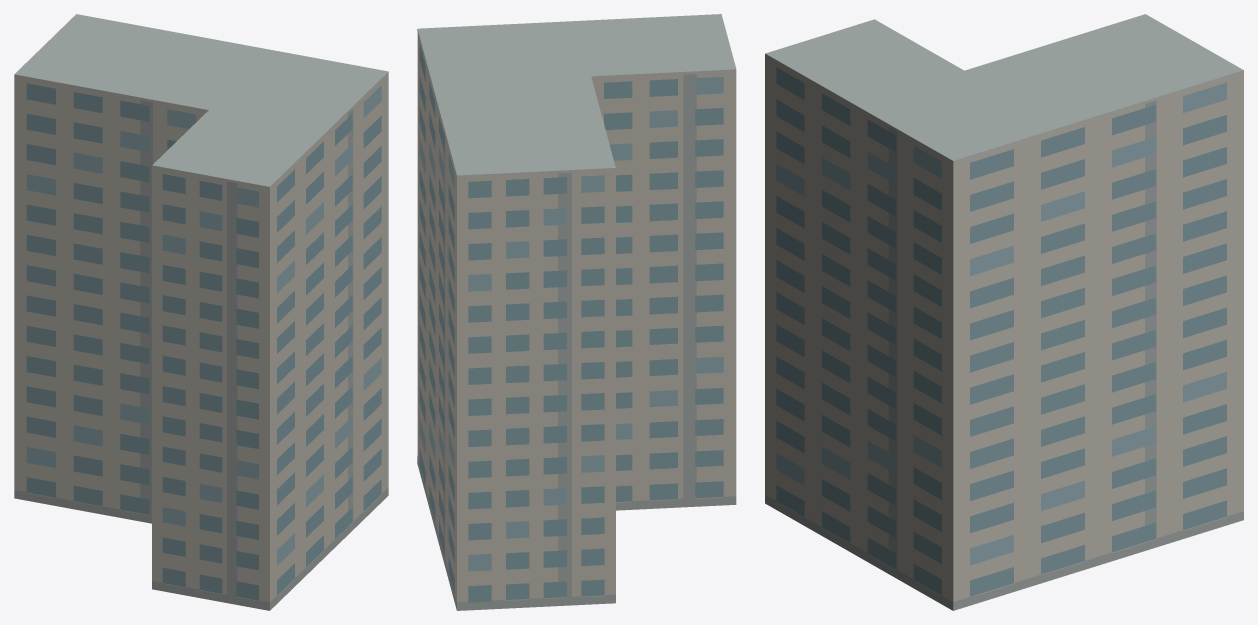
File: residential-ffc78778-fa27-49c6-a62d-be9d6b01679e.glb
3 renders of one model, left to right at view 1: azimuth 30°, elevation 25°; view 2: azimuth 150°, elevation 25°; view 3: azimuth 270°, elevation 25°, orthographic. The views are drawn at different scales.
Parts seen in each view (by area): view 1: residential-ffc78778-fa27-49c6-a62d-be9d6b01679e.tmp; view 2: residential-ffc78778-fa27-49c6-a62d-be9d6b01679e.tmp; view 3: residential-ffc78778-fa27-49c6-a62d-be9d6b01679e.tmp.
Part boxes in pixels (x1,y1,x2,y2): residential-ffc78778-fa27-49c6-a62d-be9d6b01679e.tmp: [14, 14, 388, 610]; residential-ffc78778-fa27-49c6-a62d-be9d6b01679e.tmp: [417, 14, 736, 610]; residential-ffc78778-fa27-49c6-a62d-be9d6b01679e.tmp: [765, 14, 1243, 610].
Size of the model in its own units: 28.72 by 41 by 39.54.
